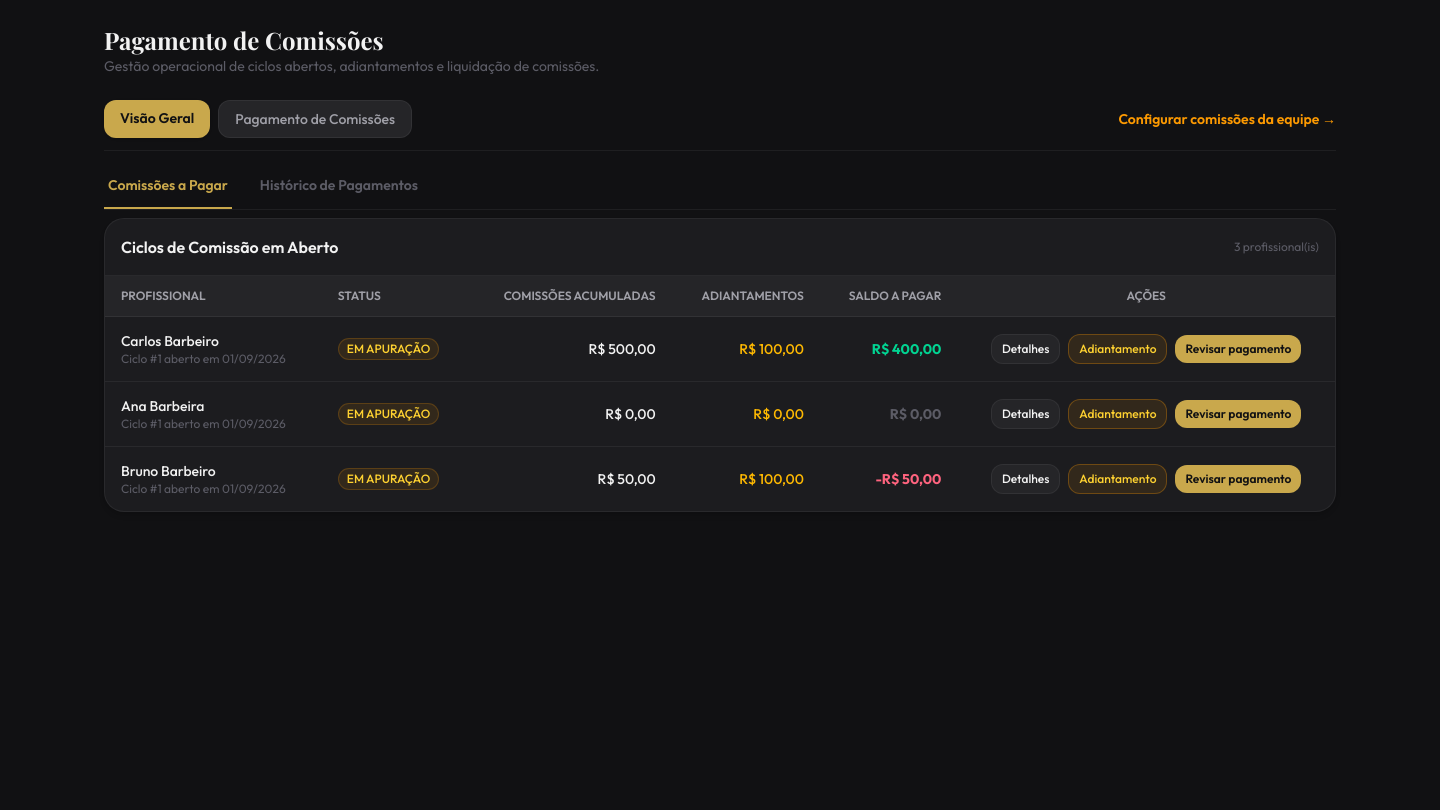
Test: TEM BARBER — C9 Admin Commission UX Suite › 10. detail explains source rows and ledger items
The image size is (1440, 810).
Expected: the text "Carlos Barbeiro" is shown, x1=121 y1=332 x2=219 y2=350
Click the button "Detalhes" in the row of "Carlos Barbeiro" at (1026, 349), box x1=991 y1=334 x2=1060 y2=364
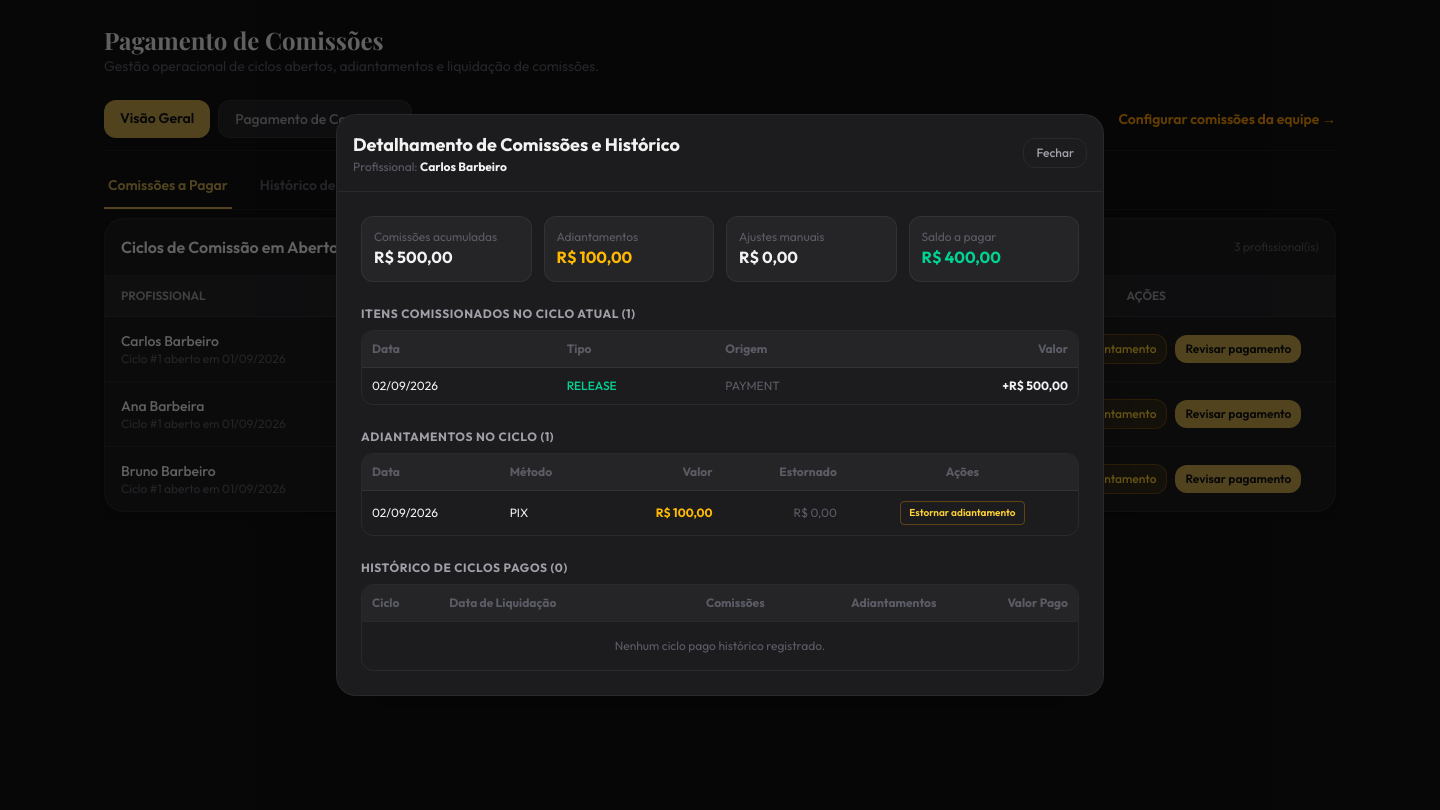
Result: the heading "Detalhamento de Comissões e Histórico" is shown at x1=353 y1=131 x2=680 y2=159
Result: the heading "Itens comissionados no ciclo atual (1)" is shown at x1=361 y1=306 x2=636 y2=321
Result: the text "RELEASE" is shown at x1=567 y1=378 x2=617 y2=393
